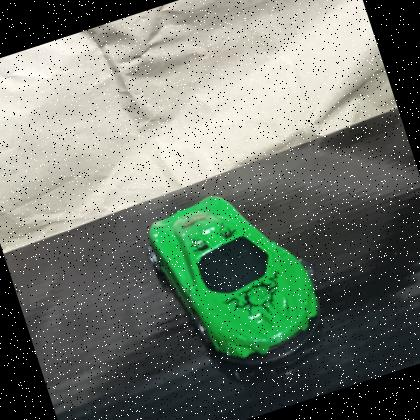Car: (132, 168, 340, 394)
